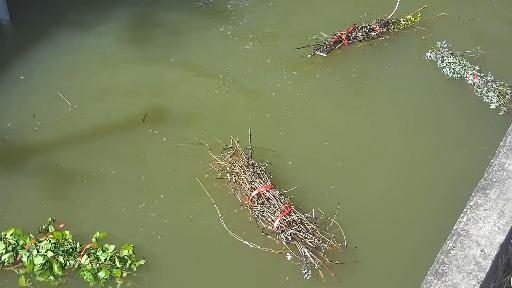twig: (183, 129, 370, 281), (0, 224, 169, 288), (422, 38, 512, 120), (322, 12, 427, 52)
